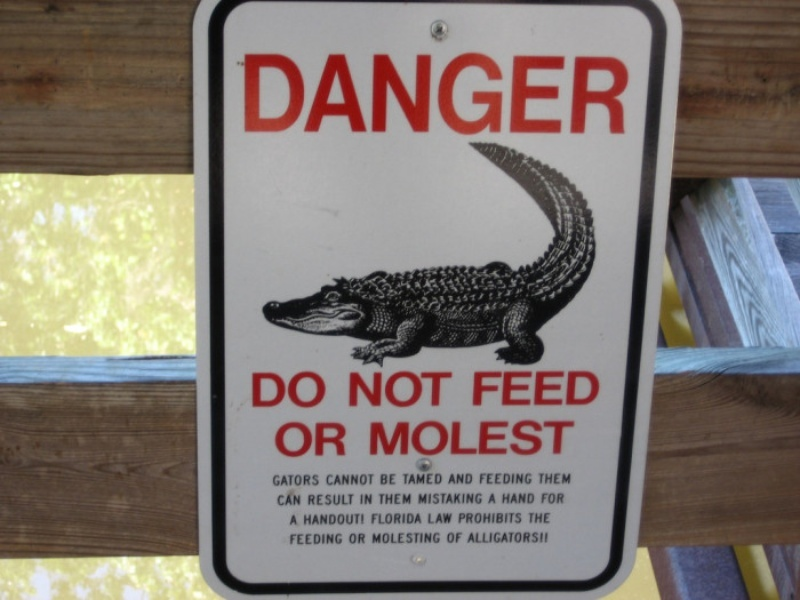text: (257, 50, 272, 138), (273, 50, 288, 138), (289, 50, 304, 138), (305, 50, 320, 138), (321, 50, 336, 138), (337, 50, 352, 138), (353, 50, 368, 138), (369, 50, 384, 138), (385, 50, 400, 138), (401, 50, 416, 138), (417, 50, 432, 138), (433, 50, 448, 138), (449, 50, 464, 138), (465, 50, 480, 138), (481, 50, 496, 138), (497, 50, 512, 138), (513, 50, 528, 138), (529, 50, 544, 138), (545, 50, 560, 138), (561, 50, 576, 138), (577, 50, 592, 138), (593, 50, 608, 138), (609, 50, 624, 138), (244, 50, 256, 138), (561, 419, 577, 458), (257, 371, 272, 410), (273, 371, 288, 410), (289, 371, 304, 410), (305, 371, 320, 410), (385, 419, 400, 458), (401, 419, 416, 458), (417, 419, 432, 458), (433, 419, 448, 458), (449, 419, 464, 458), (465, 419, 480, 458), (481, 419, 496, 458), (497, 419, 512, 458), (513, 419, 528, 458), (529, 419, 544, 458), (545, 419, 560, 458), (273, 420, 288, 458), (289, 420, 304, 458), (305, 420, 320, 458), (321, 420, 336, 458), (370, 419, 384, 458), (353, 371, 368, 407), (369, 371, 384, 407), (385, 371, 400, 407), (401, 371, 416, 407), (417, 371, 432, 407), (433, 371, 448, 407), (481, 370, 496, 406), (497, 370, 512, 406), (513, 370, 528, 406), (529, 370, 544, 406), (545, 370, 560, 406), (561, 370, 576, 406), (577, 370, 592, 406), (625, 50, 631, 138), (337, 420, 348, 458), (593, 370, 601, 406), (473, 370, 480, 406), (337, 471, 352, 486), (353, 471, 368, 486), (385, 492, 400, 506), (545, 471, 560, 485), (545, 491, 560, 505), (305, 532, 320, 546), (321, 532, 336, 546), (290, 532, 304, 546), (449, 531, 463, 545), (321, 371, 326, 410), (321, 493, 336, 506), (337, 493, 352, 506), (433, 492, 448, 505), (449, 492, 464, 505), (465, 492, 480, 505), (513, 492, 528, 505), (305, 513, 320, 526), (321, 513, 336, 526), (337, 513, 352, 526), (529, 511, 544, 524), (385, 532, 400, 545), (401, 532, 416, 545), (417, 532, 432, 545), (481, 530, 496, 543), (497, 530, 512, 543), (513, 530, 528, 543), (529, 530, 544, 543), (305, 474, 321, 486), (418, 492, 432, 505), (273, 474, 288, 486), (289, 474, 304, 486), (417, 473, 432, 485), (449, 473, 464, 485), (481, 473, 496, 485), (497, 473, 512, 485), (513, 473, 528, 485), (276, 492, 288, 507), (289, 492, 301, 507), (385, 513, 400, 525), (401, 513, 416, 525), (433, 513, 448, 525), (307, 493, 320, 506), (371, 532, 384, 545), (402, 473, 416, 485), (465, 513, 480, 524), (481, 513, 496, 524), (497, 513, 512, 524), (252, 371, 256, 410), (291, 514, 304, 526), (353, 513, 365, 526), (371, 513, 384, 525), (353, 532, 365, 545), (561, 471, 572, 485), (326, 471, 336, 486), (449, 371, 453, 407), (385, 473, 397, 485), (469, 530, 480, 543), (401, 492, 411, 506), (502, 492, 512, 505), (433, 473, 443, 485), (359, 493, 368, 506), (513, 513, 523, 524), (349, 371, 352, 407), (465, 473, 474, 485), (433, 532, 441, 545), (537, 471, 544, 485), (369, 471, 375, 486), (378, 492, 384, 506), (490, 492, 496, 505), (337, 532, 342, 546), (529, 492, 534, 505), (545, 511, 550, 524), (427, 513, 432, 525), (561, 491, 565, 505), (459, 513, 464, 524), (348, 532, 352, 545), (545, 530, 549, 543), (380, 473, 384, 485), (529, 473, 533, 485), (417, 513, 421, 525), (541, 491, 544, 505), (369, 493, 372, 506), (449, 513, 452, 525), (446, 531, 448, 545), (481, 492, 483, 505), (478, 473, 480, 485), (353, 493, 354, 506), (303, 513, 304, 526), (527, 511, 528, 524), (447, 473, 448, 485)
